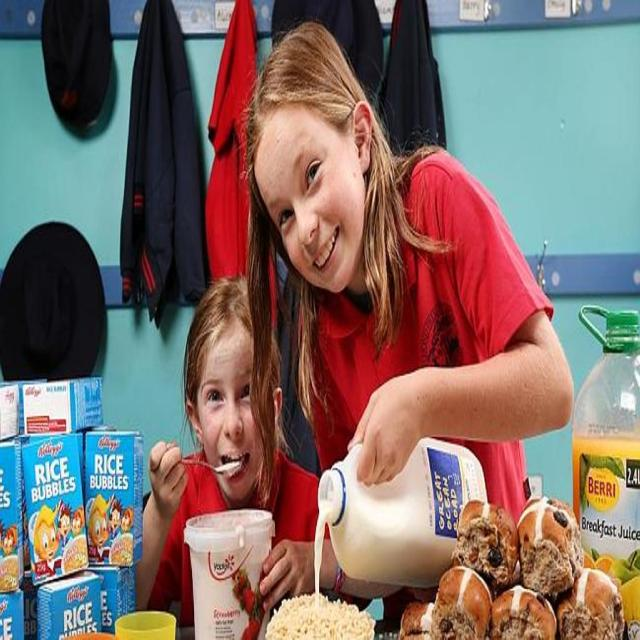Face: (254, 78, 380, 301), (178, 308, 280, 505)
